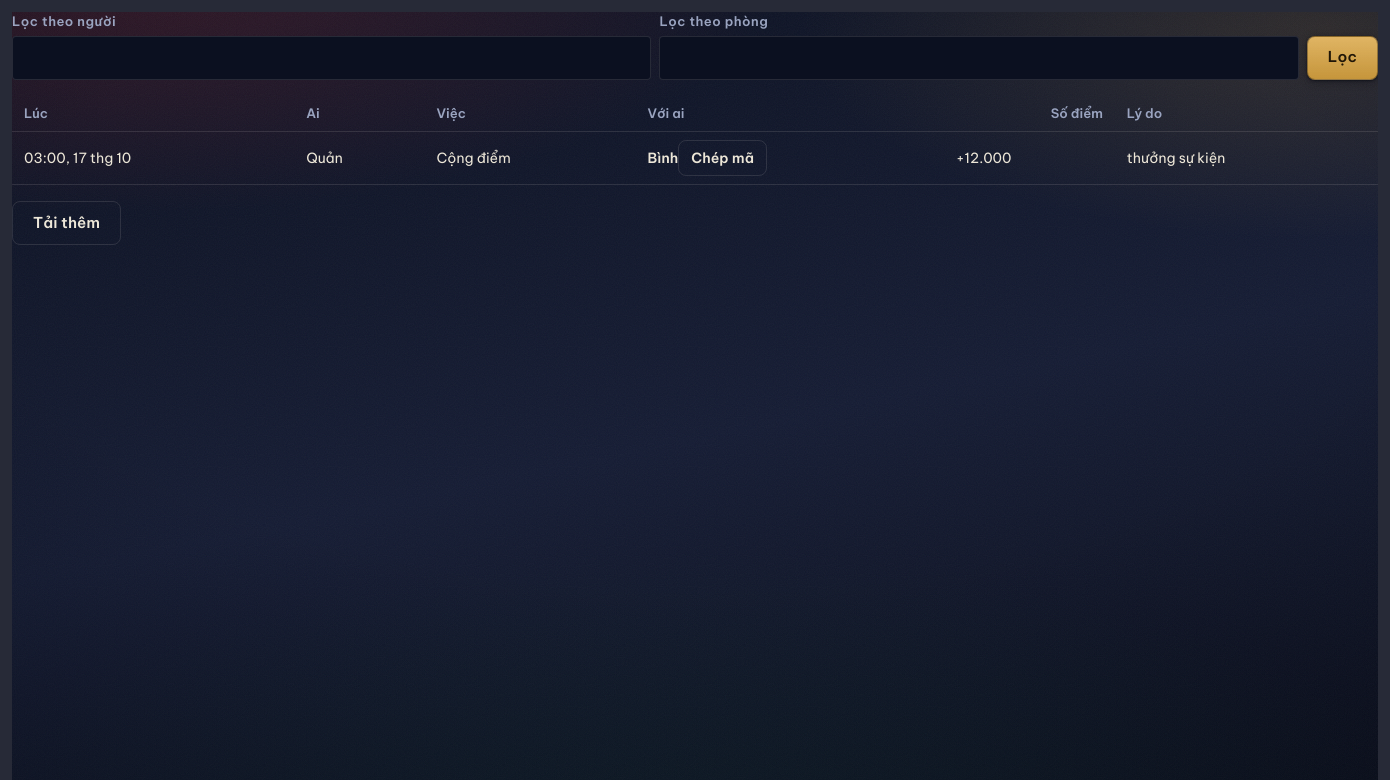
Scenario: ActionsTab › pages on the cursor of the last filter and appends
Expected: the text "thưởng sự kiện" is shown, [1115,132,1378,184]
What coordinates should you click on to do the following:
click the button "Tải thêm"
I would click on:
 (66, 223)
Its box is [12,201,121,245].
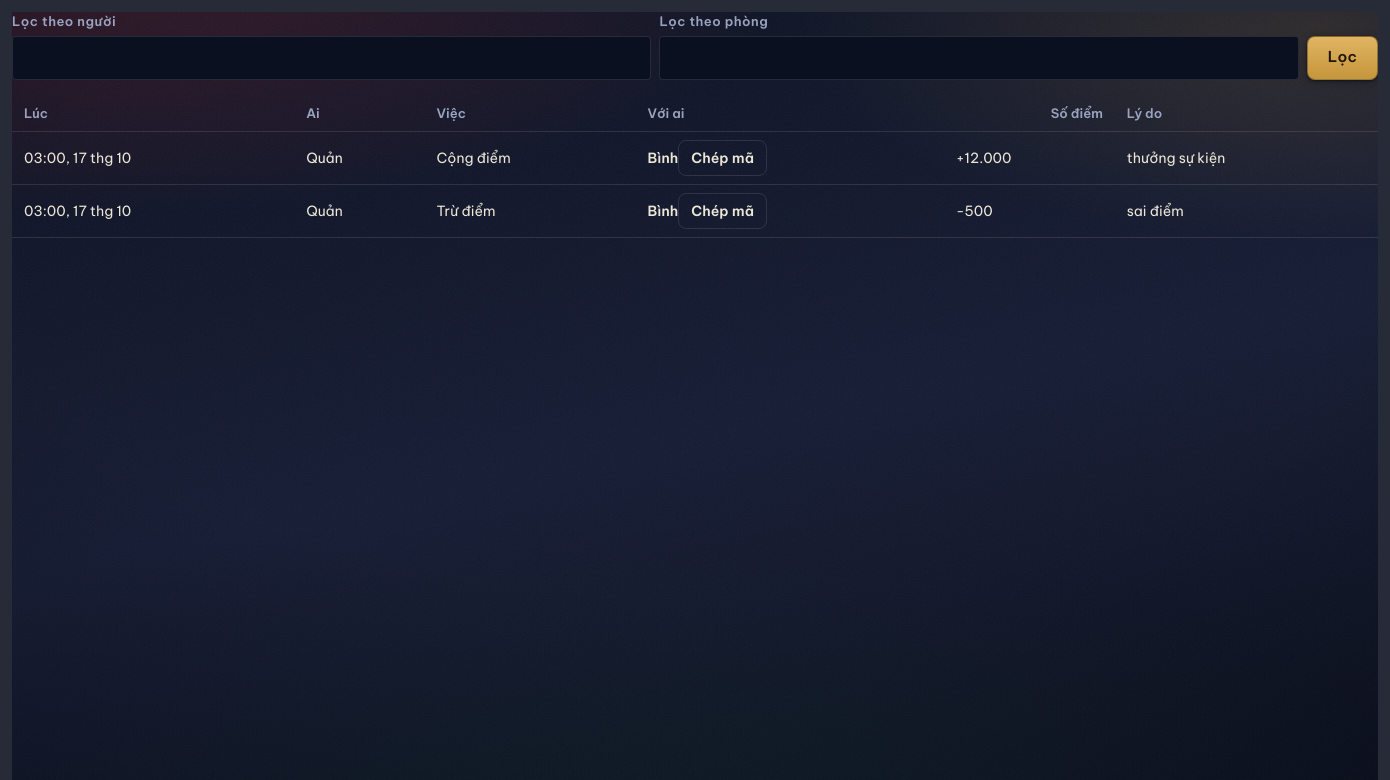
Expected: the text "thưởng sự kiện" is shown, [1115,132,1378,184]
Expected: the text "sai điểm" is shown, [1115,184,1378,238]
Expected: the button "Tải thêm" is gone
